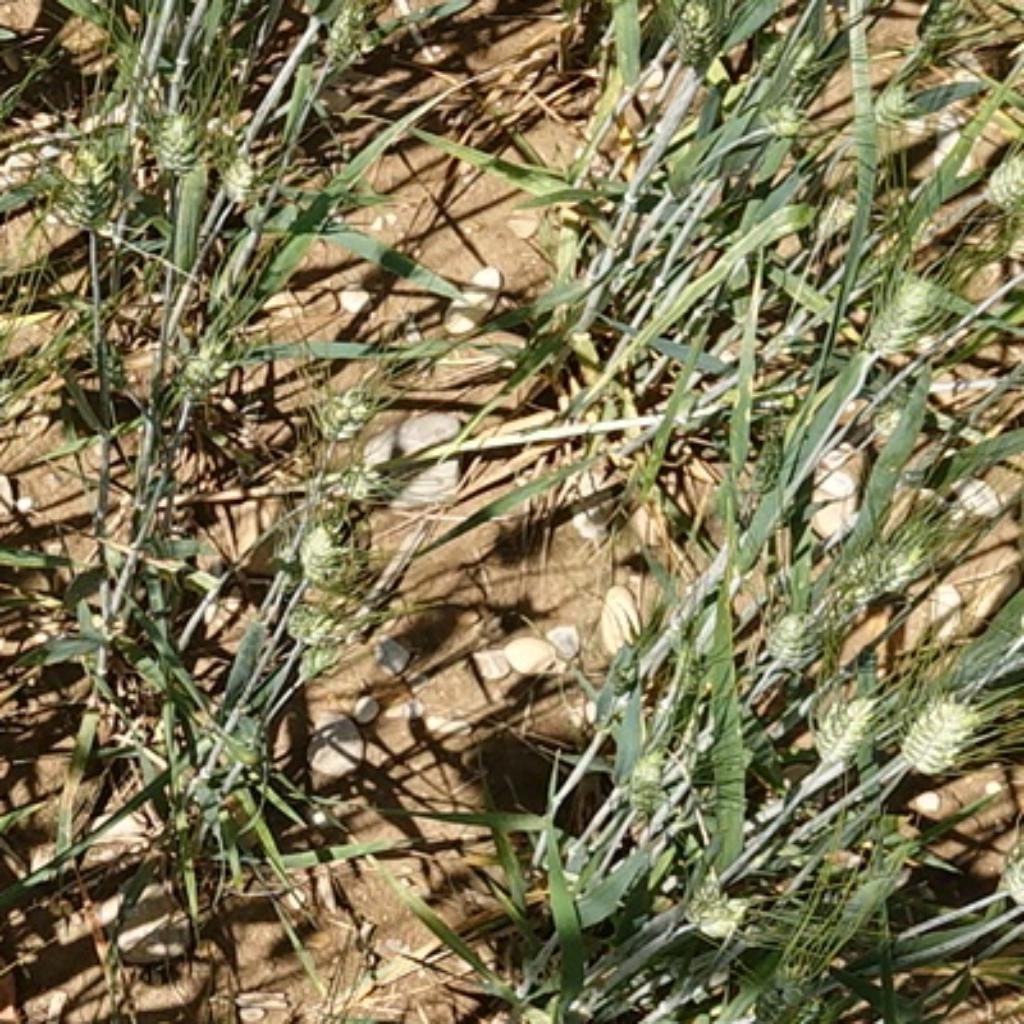0-0: (829, 486, 962, 624), (750, 545, 865, 668), (273, 494, 391, 591), (151, 299, 248, 409), (51, 140, 143, 245), (852, 256, 949, 353), (894, 692, 989, 785), (299, 371, 389, 451), (737, 947, 829, 1024), (135, 89, 212, 179), (276, 593, 371, 665), (199, 104, 266, 202), (806, 684, 880, 771), (597, 718, 661, 803), (626, 754, 690, 836), (679, 863, 748, 937), (307, 2, 373, 74), (661, 0, 730, 61), (865, 69, 926, 133), (760, 34, 826, 88), (749, 98, 818, 147), (92, 338, 138, 402), (982, 143, 1024, 213)
